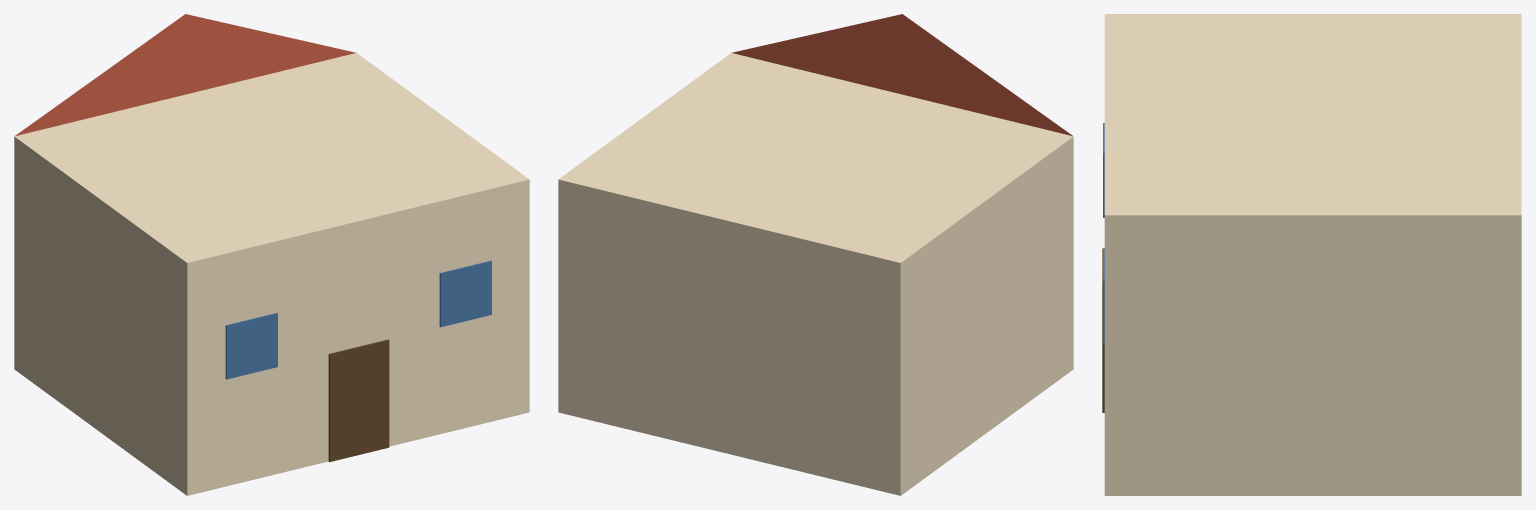
Rendered from house-a.glb.
3 renders of one model, left to right at view 1: azimuth 30°, elevation 25°; view 2: azimuth 150°, elevation 25°; view 3: azimuth 270°, elevation 25°, orthographic. The views are drawn at different scales.
Parts seen in each view (by area): view 1: house-a; view 2: house-a; view 3: house-a.
Boxes of the visible parts, left/top/right/bottom form: house-a: left=14, top=14, right=529, bottom=495; house-a: left=558, top=14, right=1073, bottom=495; house-a: left=1102, top=14, right=1521, bottom=495.
Size of the model in its own units: 8 by 7 by 7.04.
